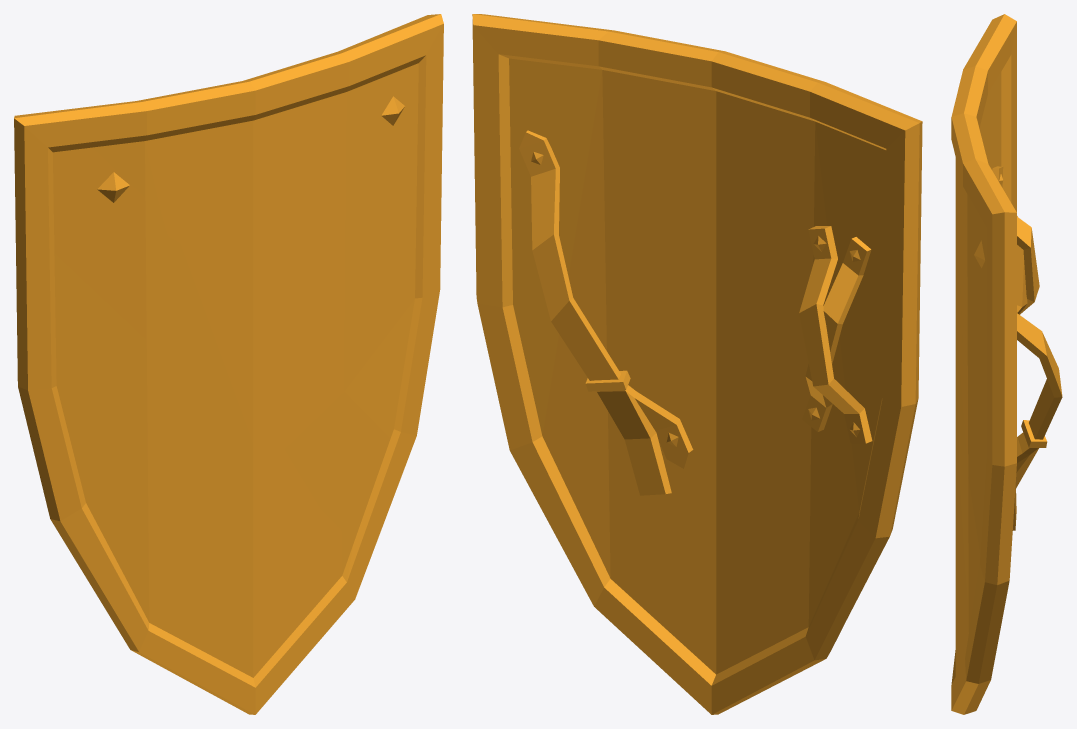
The model's file is SM_Shield_Heater_D.fbx.
3 renders of one model, left to right at view 1: azimuth 30°, elevation 25°; view 2: azimuth 150°, elevation 25°; view 3: azimuth 270°, elevation 25°, orthographic. The views are drawn at different scales.
Visible parts, largest first — view 1: shield-heater-d; view 2: shield-heater-d; view 3: shield-heater-d.
Part boxes in pixels (x1,y1,x2,y2): shield-heater-d: (14, 14, 443, 714); shield-heater-d: (472, 14, 922, 714); shield-heater-d: (951, 14, 1062, 714).
Bounding box in the file's own units: 0.5606 × 0.7934 × 0.1326.
